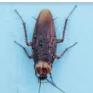cockroach: (30, 8, 60, 83)
